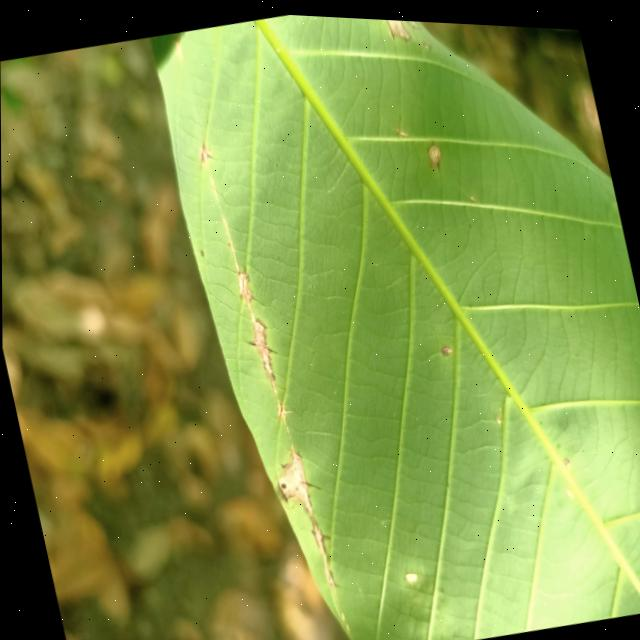Colletotrichum: (424, 138, 443, 165), (438, 339, 448, 352), (560, 451, 569, 460)
Leaf-Blight: (242, 307, 277, 393), (270, 447, 312, 516), (309, 518, 332, 582), (233, 267, 251, 301), (383, 16, 408, 37), (274, 398, 291, 416)
